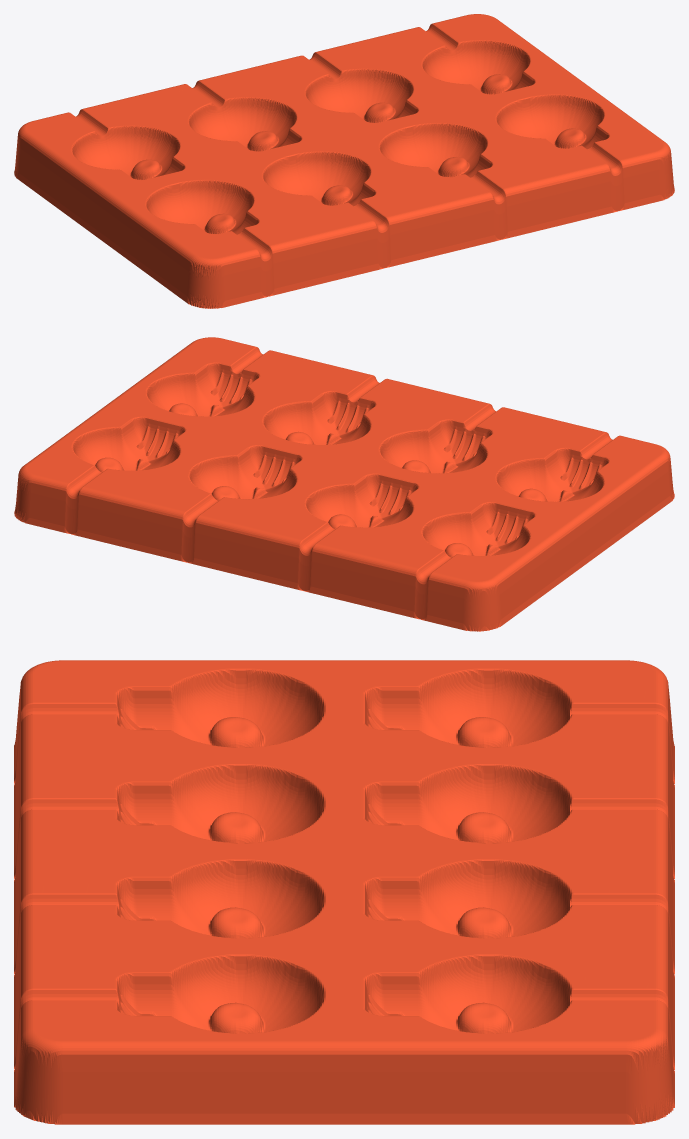
The model's file is mold.glb.
3 views of the same model, one above another, from view 1: azimuth 30°, elevation 25°; view 2: azimuth 150°, elevation 25°; view 3: azimuth 270°, elevation 25° (orthographic). The views are drawn at different scales.
Parts seen in each view (by area): view 1: geometry_0; view 2: geometry_0; view 3: geometry_0.
Part boxes in pixels (bbox=[...]): geometry_0: bbox=[14, 14, 674, 308]; geometry_0: bbox=[14, 337, 674, 631]; geometry_0: bbox=[14, 660, 674, 1124].
Size of the model in its own units: 0.1741 by 0.0155 by 0.1229.
